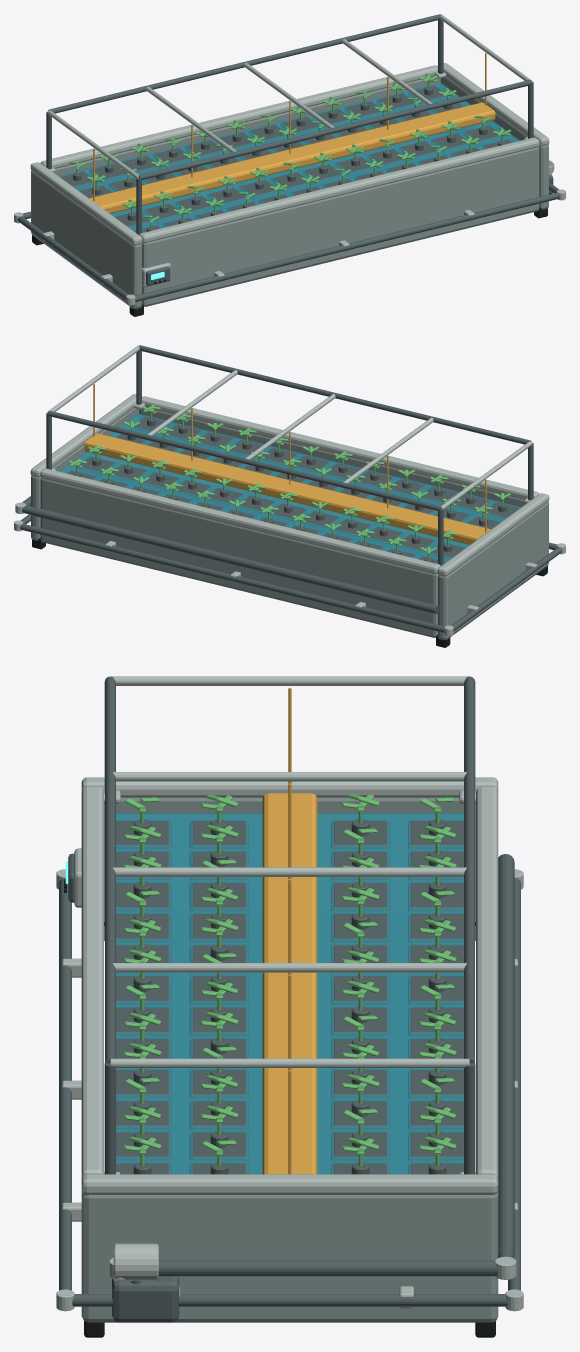
The model's file is 18_industrial_double_hydro_basin.glb.
3 views of the same model, one above another, from view 1: azimuth 30°, elevation 25°; view 2: azimuth 150°, elevation 25°; view 3: azimuth 270°, elevation 25° (orthographic). The views are drawn at different scales.
Parts seen in each view (by area): view 1: 18_industrial_double_hydro_basin_Wall_Front, 18_industrial_double_hydro_basin_Water_Surface, 18_industrial_double_hydro_basin_Central_Service_Walkway, 18_industrial_double_hydro_basin_Wall_Left, 18_industrial_double_hydro_basin_Top_Rim_Front, 18_industrial_double_hydro_basin_Top_Rim_Rear, 18_industrial_double_hydro_basin_Perimeter_Front, 18_industrial_double_hydro_basin_Wall_Rear, 18_industrial_double_hydro_basin_Gantry_Long_Rail_-1, 18_industrial_double_hydro_basin_Gantry_Long_Rail_1, 18_industrial_double_hydro_basin_Top_Rim_Left, 18_industrial_double_hydro_basin_Top_Rim_Right (+7 smaller); view 2: 18_industrial_double_hydro_basin_Wall_Rear, 18_industrial_double_hydro_basin_Water_Surface, 18_industrial_double_hydro_basin_Central_Service_Walkway, 18_industrial_double_hydro_basin_Wall_Left, 18_industrial_double_hydro_basin_Top_Rim_Rear, 18_industrial_double_hydro_basin_Top_Rim_Front, 18_industrial_double_hydro_basin_Rear_Manifold, 18_industrial_double_hydro_basin_Perimeter_Rear, 18_industrial_double_hydro_basin_Wall_Front, 18_industrial_double_hydro_basin_Gantry_Long_Rail_1, 18_industrial_double_hydro_basin_Gantry_Long_Rail_-1, 18_industrial_double_hydro_basin_Top_Rim_Left (+8 smaller); view 3: 18_industrial_double_hydro_basin_Water_Surface, 18_industrial_double_hydro_basin_Wall_Right, 18_industrial_double_hydro_basin_Central_Service_Walkway, 18_industrial_double_hydro_basin_Top_Rim_Front, 18_industrial_double_hydro_basin_Top_Rim_Rear, 18_industrial_double_hydro_basin_Top_Rim_Right, 18_industrial_double_hydro_basin_Rear_Manifold, 18_industrial_double_hydro_basin_Top_Rim_Left, 18_industrial_double_hydro_basin_Circulation_Loop_Segment_2, 18_industrial_double_hydro_basin_Perimeter_Front, 18_industrial_double_hydro_basin_Perimeter_Right, 18_industrial_double_hydro_basin_Wall_Left (+47 smaller).
Boxes of the visible parts, x1=… form: 18_industrial_double_hydro_basin_Wall_Front: x1=142, y1=147, x2=539, y2=306; 18_industrial_double_hydro_basin_Water_Surface: x1=58, y1=83, x2=519, y2=230; 18_industrial_double_hydro_basin_Central_Service_Walkway: x1=89, y1=102, x2=495, y2=213; 18_industrial_double_hydro_basin_Wall_Left: x1=31, y1=171, x2=141, y2=309; 18_industrial_double_hydro_basin_Top_Rim_Front: x1=139, y1=137, x2=539, y2=243; 18_industrial_double_hydro_basin_Top_Rim_Rear: x1=40, y1=65, x2=437, y2=168; 18_industrial_double_hydro_basin_Perimeter_Front: x1=135, y1=192, x2=559, y2=301; 18_industrial_double_hydro_basin_Wall_Rear: x1=54, y1=76, x2=440, y2=175; 18_industrial_double_hydro_basin_Gantry_Long_Rail_-1: x1=139, y1=80, x2=531, y2=179; 18_industrial_double_hydro_basin_Gantry_Long_Rail_1: x1=48, y1=14, x2=440, y2=113; 18_industrial_double_hydro_basin_Top_Rim_Left: x1=30, y1=162, x2=142, y2=245; 18_industrial_double_hydro_basin_Top_Rim_Right: x1=443, y1=63, x2=549, y2=146; 18_industrial_double_hydro_basin_Wall_Rear: x1=40, y1=478, x2=437, y2=637; 18_industrial_double_hydro_basin_Water_Surface: x1=60, y1=414, x2=521, y2=561; 18_industrial_double_hydro_basin_Central_Service_Walkway: x1=84, y1=433, x2=490, y2=544; 18_industrial_double_hydro_basin_Wall_Left: x1=438, y1=502, x2=548, y2=640; 18_industrial_double_hydro_basin_Top_Rim_Rear: x1=40, y1=468, x2=440, y2=574; 18_industrial_double_hydro_basin_Top_Rim_Front: x1=142, y1=396, x2=539, y2=499; 18_industrial_double_hydro_basin_Rear_Manifold: x1=32, y1=507, x2=439, y2=613; 18_industrial_double_hydro_basin_Perimeter_Rear: x1=20, y1=523, x2=444, y2=632; 18_industrial_double_hydro_basin_Wall_Front: x1=139, y1=407, x2=525, y2=506; 18_industrial_double_hydro_basin_Gantry_Long_Rail_1: x1=48, y1=411, x2=440, y2=510; 18_industrial_double_hydro_basin_Gantry_Long_Rail_-1: x1=139, y1=345, x2=531, y2=444; 18_industrial_double_hydro_basin_Top_Rim_Left: x1=437, y1=493, x2=549, y2=576; 18_industrial_double_hydro_basin_Water_Surface: x1=116, y1=813, x2=463, y2=1174; 18_industrial_double_hydro_basin_Wall_Right: x1=81, y1=1191, x2=498, y2=1322; 18_industrial_double_hydro_basin_Central_Service_Walkway: x1=262, y1=793, x2=317, y2=1174; 18_industrial_double_hydro_basin_Top_Rim_Front: x1=81, y1=786, x2=103, y2=1178; 18_industrial_double_hydro_basin_Top_Rim_Rear: x1=476, y1=786, x2=498, y2=1178; 18_industrial_double_hydro_basin_Top_Rim_Right: x1=81, y1=1174, x2=498, y2=1195; 18_industrial_double_hydro_basin_Rear_Manifold: x1=498, y1=854, x2=514, y2=1257; 18_industrial_double_hydro_basin_Top_Rim_Left: x1=81, y1=777, x2=498, y2=797; 18_industrial_double_hydro_basin_Circulation_Loop_Segment_2: x1=158, y1=1260, x2=498, y2=1276; 18_industrial_double_hydro_basin_Perimeter_Front: x1=59, y1=878, x2=71, y2=1290; 18_industrial_double_hydro_basin_Perimeter_Right: x1=72, y1=1294, x2=507, y2=1306; 18_industrial_double_hydro_basin_Wall_Left: x1=104, y1=797, x2=475, y2=925.
Bounding box in the file's own units: 6.34 × 1.85 × 2.92.
